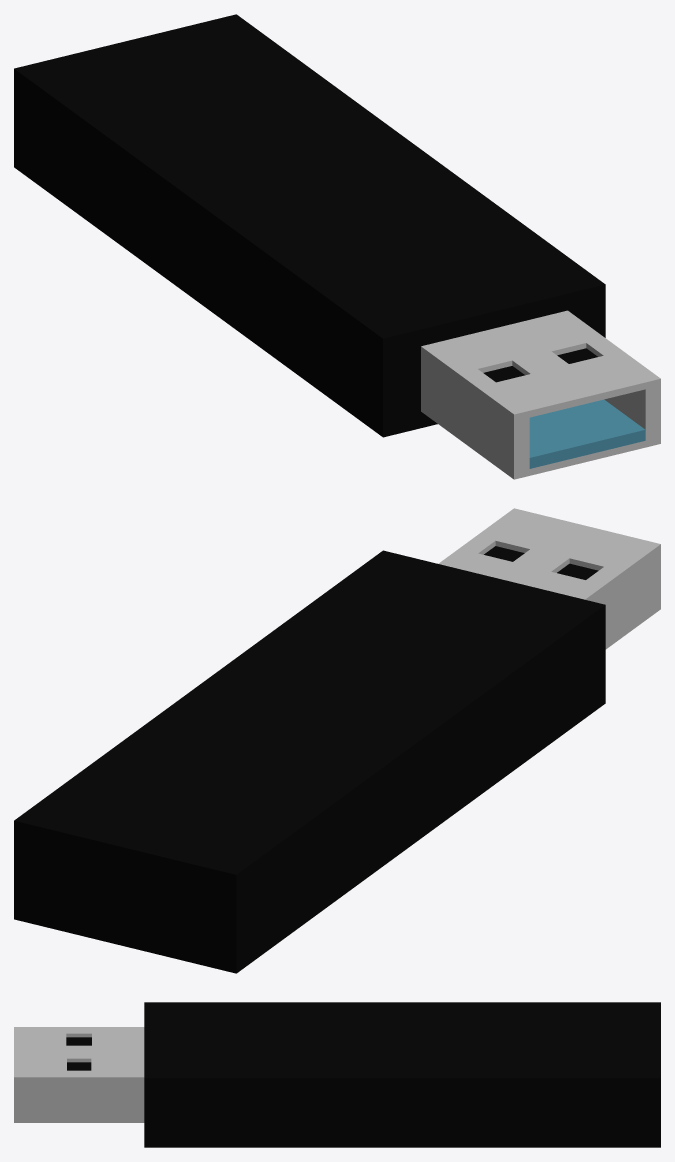
The model's file is USB.fbx.
The picture shows the model from 3 angles, top to bottom: view 1: azimuth 30°, elevation 25°; view 2: azimuth 150°, elevation 25°; view 3: azimuth 270°, elevation 25°; orthographic projection. The views are drawn at different scales.
Visible parts, largest first — view 1: 立方体; view 2: 立方体; view 3: 立方体.
Part boxes in pixels (x1=…): 立方体: x1=14, y1=14, x2=660, y2=479; 立方体: x1=14, y1=508, x2=660, y2=973; 立方体: x1=14, y1=1002, x2=660, y2=1147.
Bounding box in the file's own units: 200 × 84.8 × 720.
